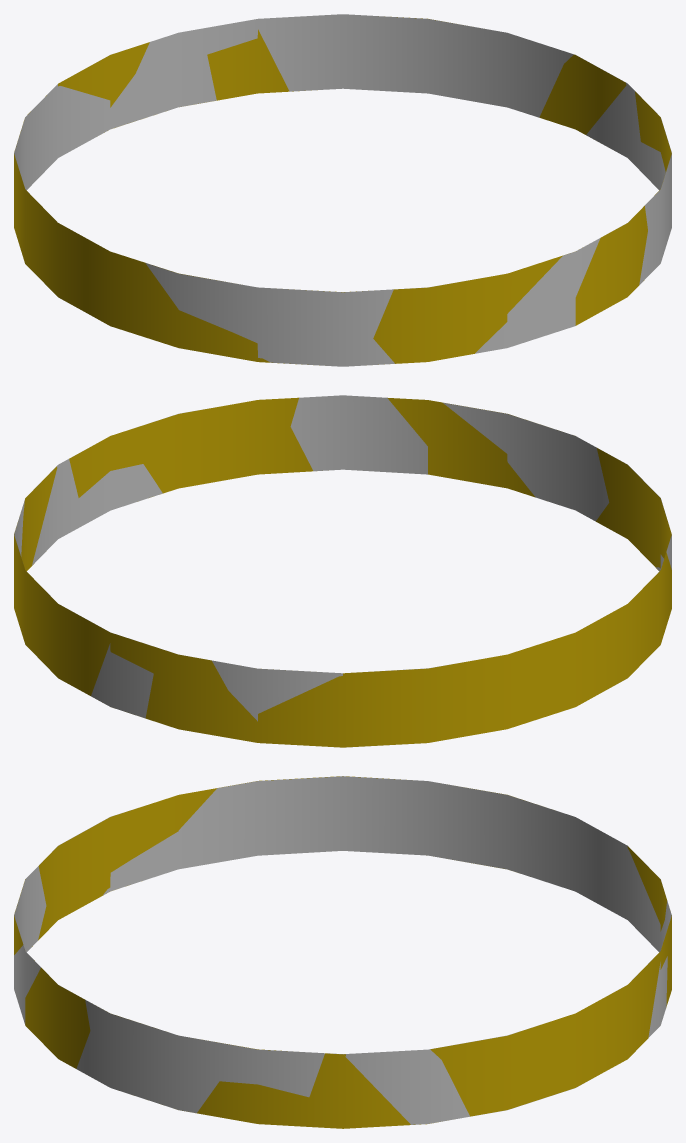
The model's file is original_3.obj.
3 renders of one model, top to bottom at view 1: azimuth 30°, elevation 25°; view 2: azimuth 150°, elevation 25°; view 3: azimuth 270°, elevation 25°, orthographic.
Parts seen in each view (by area): view 1: #ID21; view 2: #ID21; view 3: #ID21.
Boxes of the visible parts, <box> form: #ID21: <box>14,14,671,366</box>; #ID21: <box>14,395,671,747</box>; #ID21: <box>14,776,671,1128</box>.
Size of the model in its own units: 0.645 by 0.0809 by 0.645.
